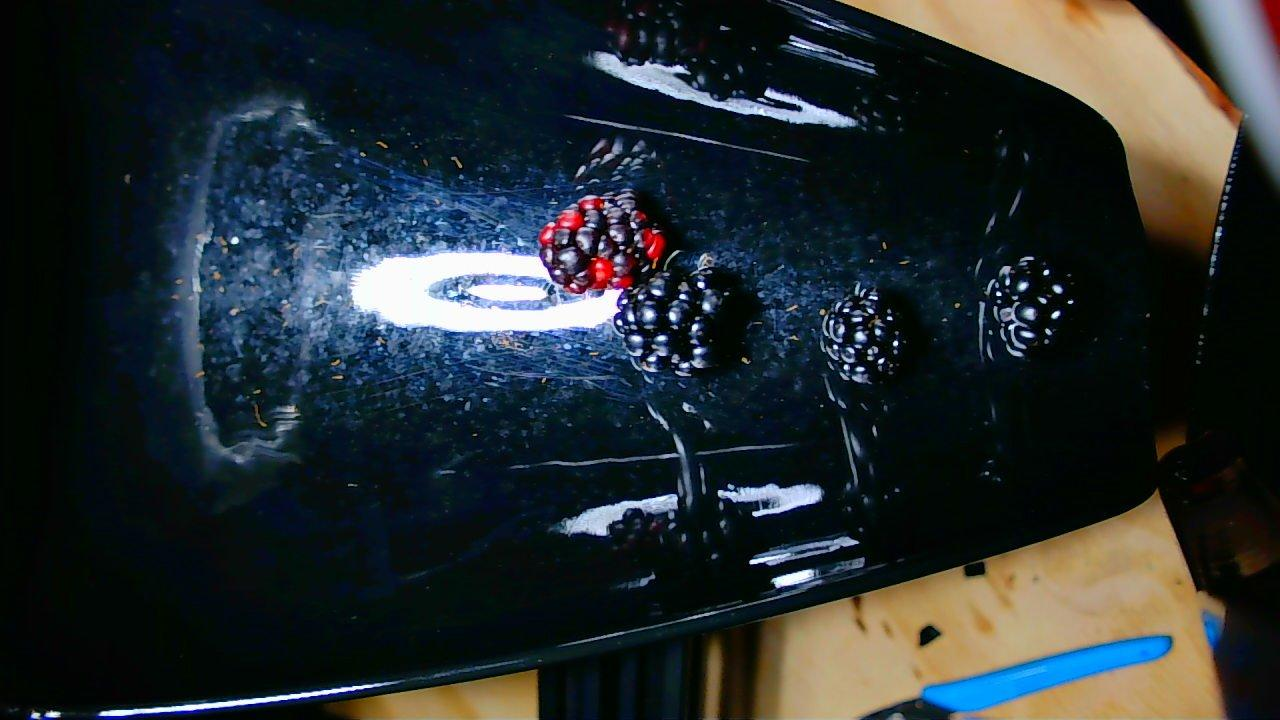berry: (539, 188, 665, 293), (613, 268, 735, 376), (986, 256, 1076, 355), (822, 286, 906, 383)
